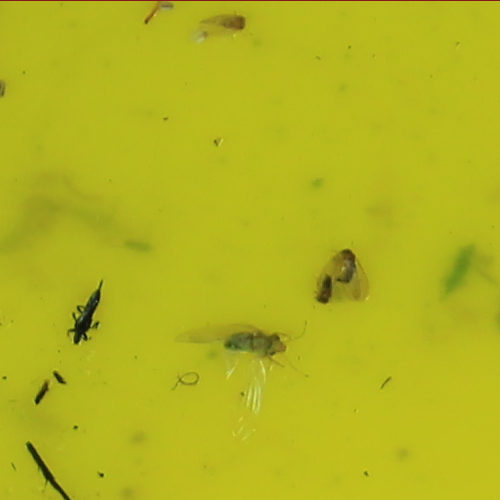Glycaspis: (217, 327, 290, 359)
psylla: (216, 10, 249, 29)
